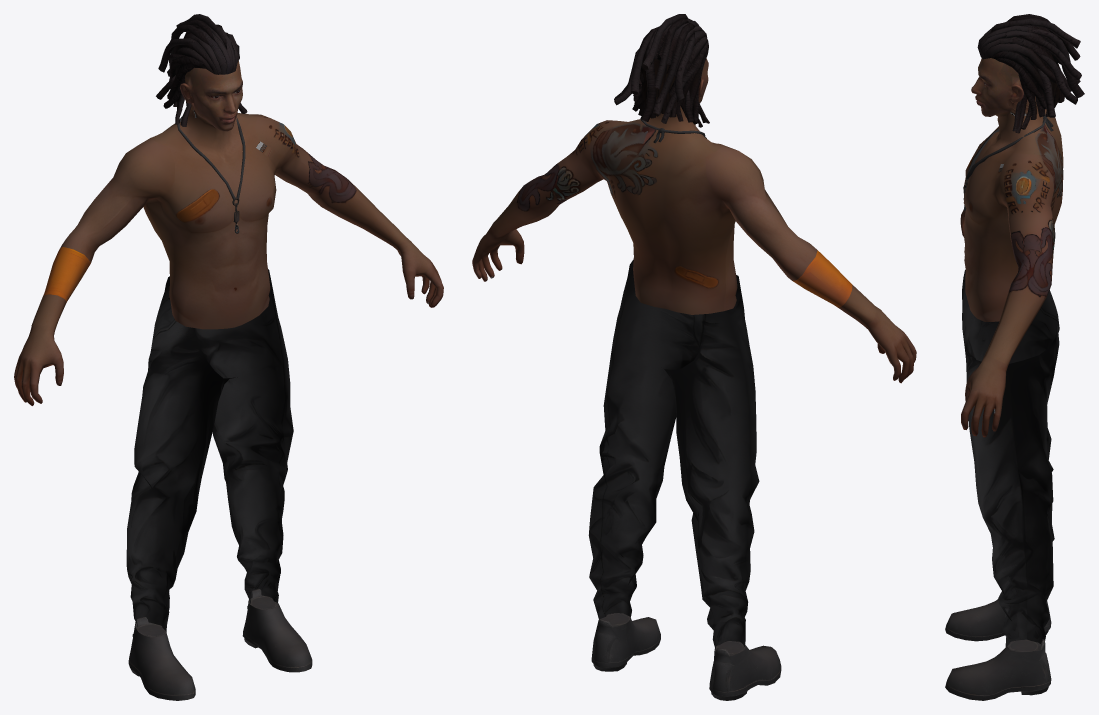
Rendered from jamille.glb.
3 renders of one model, left to right at view 1: azimuth 30°, elevation 25°; view 2: azimuth 150°, elevation 25°; view 3: azimuth 270°, elevation 25°, orthographic. The views are drawn at different scales.
Visible parts, largest first — view 1: jamille 2, jamille 6, jamille 3, jamille 1, jamille 5, jamille 4; view 2: jamille 6, jamille 2, jamille 1, jamille 3, jamille 4; view 3: jamille 2, jamille 6, jamille 1, jamille 3, jamille 5, jamille 4.
Part boxes in pixels (x1,y1,x2,y2): jamille 2: (14,109,443,405); jamille 6: (126,269,293,632); jamille 3: (128,589,312,700); jamille 1: (156,14,247,126); jamille 5: (180,61,242,131); jamille 4: (43,117,245,303); jamille 6: (588,259,759,649); jamille 2: (472,110,916,383); jamille 1: (614,14,709,127); jamille 3: (591,613,781,700); jamille 4: (640,119,852,307); jamille 2: (960,105,1063,437); jamille 6: (962,270,1059,647); jamille 1: (977,14,1084,133); jamille 3: (945,599,1051,700); jamille 5: (971,58,1036,116); jamille 4: (963,113,1053,210).
Size of the model in its own units: 0.6319 by 0.9206 by 0.1807.
Materials: 6 (6 with a texture image).
